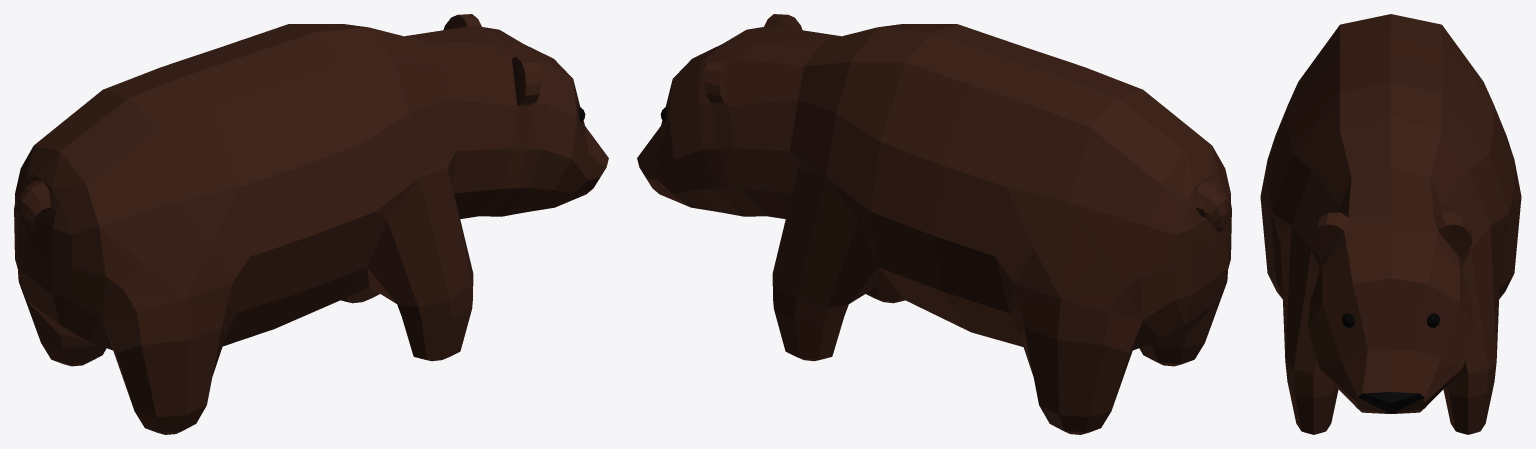
Rendered from 02_brown_bear.obj.
The picture shows the model from 3 angles, left to right: view 1: azimuth 30°, elevation 25°; view 2: azimuth 150°, elevation 25°; view 3: azimuth 270°, elevation 25°; orthographic projection. The views are drawn at different scales.
Visible parts, largest first — view 1: Plane_0; view 2: Plane_0; view 3: Plane_0, Plane_1.
Boxes of the visible parts, bbox=[...] form: Plane_0: bbox=[14, 14, 608, 434]; Plane_0: bbox=[637, 14, 1231, 434]; Plane_0: bbox=[1260, 14, 1521, 434]; Plane_1: bbox=[1358, 392, 1423, 413].
Size of the model in its own units: 1.28 by 0.6665 by 0.5122.
